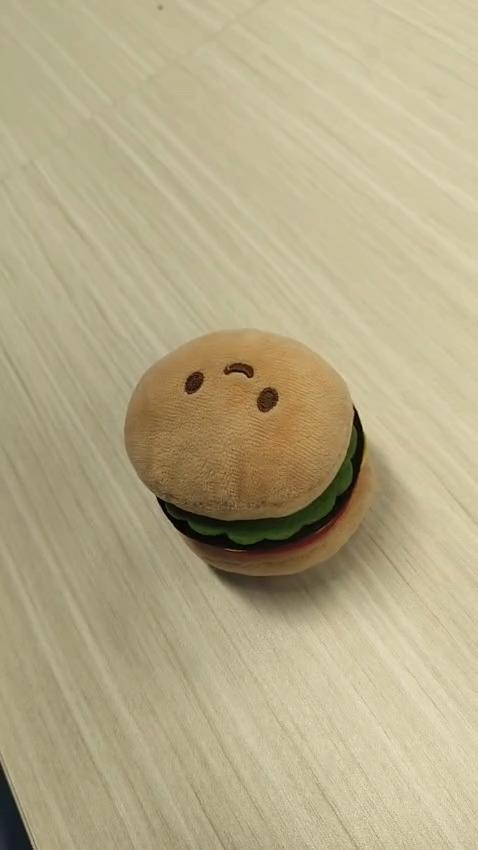hamburger: (122, 326, 375, 578)
